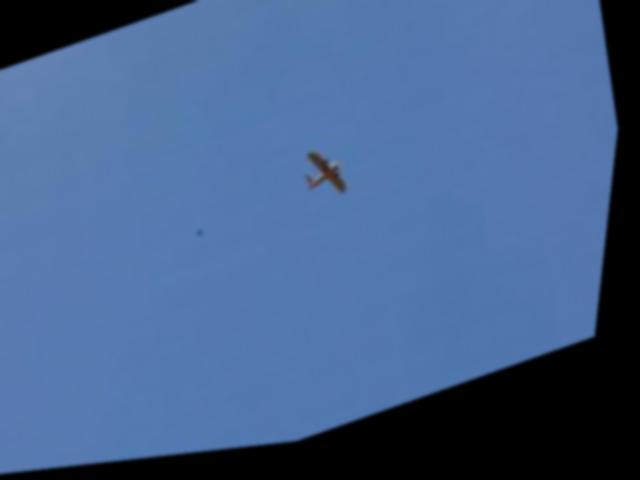uav: (301, 145, 360, 214)
